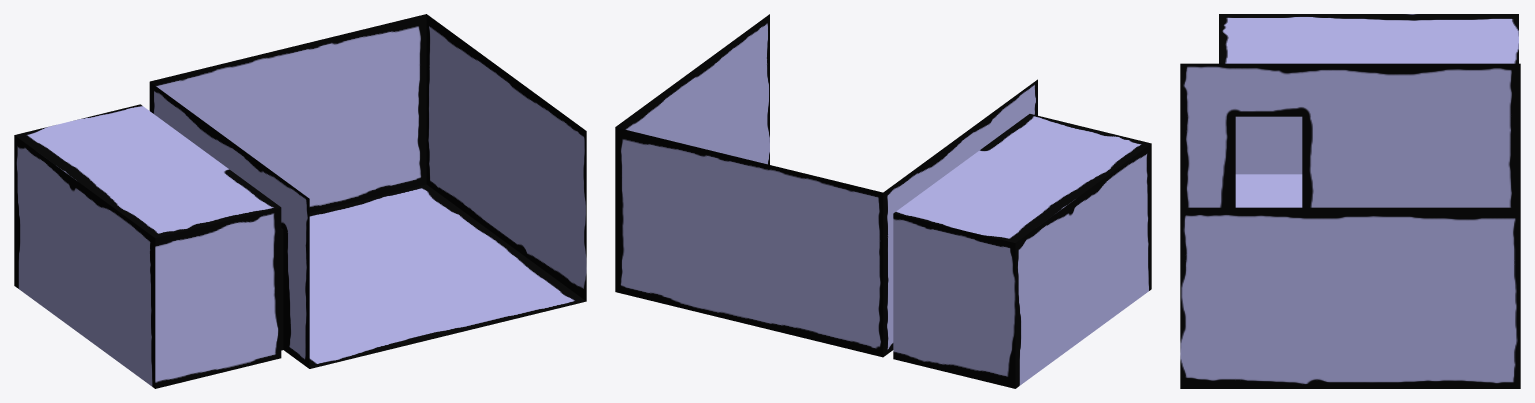
File: Room.fbx
3 renders of one model, left to right at view 1: azimuth 30°, elevation 25°; view 2: azimuth 150°, elevation 25°; view 3: azimuth 270°, elevation 25°, orthographic. The views are drawn at different scales.
Visible parts, largest first — view 1: Plane; view 2: Plane; view 3: Plane.
Part boxes in pixels (x1,y1,x2,y2): Plane: (14,14,586,388); Plane: (615,14,1151,388); Plane: (1180,14,1520,388).
Bounding box in the file's own units: 1789 × 706 × 1200.
